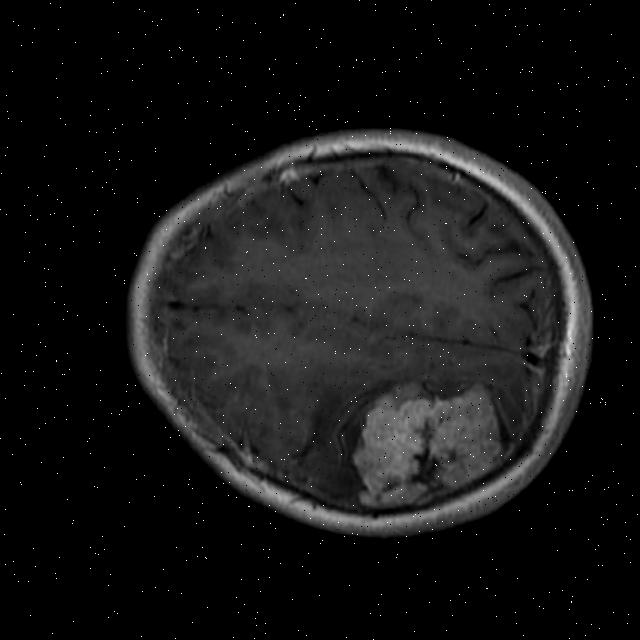Meningioma: (341, 370, 514, 519)
